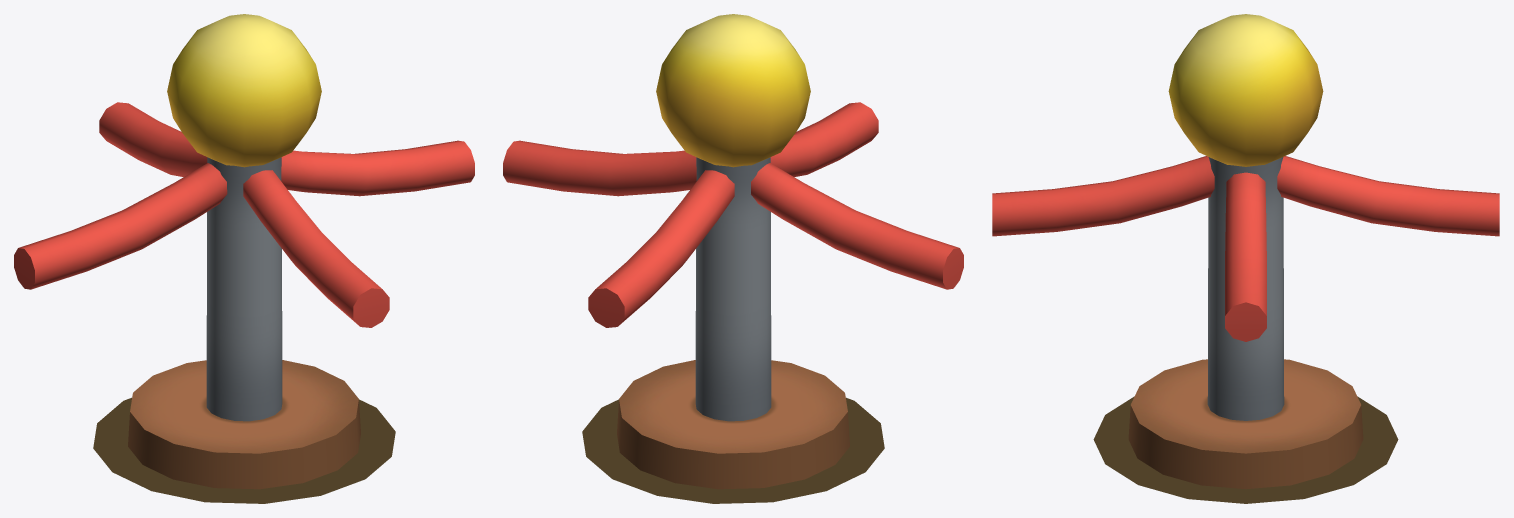
The model's file is Mu_Fence01.fbx.
3 renders of one model, left to right at view 1: azimuth 30°, elevation 25°; view 2: azimuth 150°, elevation 25°; view 3: azimuth 270°, elevation 25°, orthographic.
Visible parts, largest first — view 1: Mu_Fence01_h, Mu_Fence01_a, Mu_Fence01_b, Mu_Fence01_a_shadow, Mu_Fence01_h_shadow, Mu_Fence01_c, Mu_Fence01_c_shadow, Mu_Fence01_b_shadow, Mu_Fence01_d; view 2: Mu_Fence01_h, Mu_Fence01_a, Mu_Fence01_h_shadow, Mu_Fence01_b, Mu_Fence01_a_shadow, Mu_Fence01_c, Mu_Fence01_b_shadow, Mu_Fence01_d; view 3: Mu_Fence01_h, Mu_Fence01_b, Mu_Fence01_a, Mu_Fence01_h_shadow, Mu_Fence01_a_shadow, Mu_Fence01_d, Mu_Fence01_b_shadow.
Part boxes in pixels (<box>): Mu_Fence01_h: <box>14,14,474,489</box>; Mu_Fence01_a: <box>135,24,360,429</box>; Mu_Fence01_b: <box>266,141,474,413</box>; Mu_Fence01_a_shadow: <box>93,399,395,503</box>; Mu_Fence01_h_shadow: <box>97,398,394,503</box>; Mu_Fence01_c: <box>14,174,226,289</box>; Mu_Fence01_c_shadow: <box>237,483,318,503</box>; Mu_Fence01_b_shadow: <box>105,398,364,496</box>; Mu_Fence01_d: <box>99,121,194,176</box>; Mu_Fence01_h: <box>503,14,963,489</box>; Mu_Fence01_a: <box>617,19,847,489</box>; Mu_Fence01_h_shadow: <box>583,398,884,503</box>; Mu_Fence01_b: <box>503,120,874,419</box>; Mu_Fence01_a_shadow: <box>582,397,884,502</box>; Mu_Fence01_c: <box>751,180,957,286</box>; Mu_Fence01_b_shadow: <box>585,416,883,499</box>; Mu_Fence01_d: <box>588,185,734,323</box>; Mu_Fence01_h: <box>992,14,1499,489</box>; Mu_Fence01_b: <box>992,167,1348,416</box>; Mu_Fence01_a: <box>1133,20,1351,470</box>; Mu_Fence01_h_shadow: <box>1093,396,1395,503</box>; Mu_Fence01_a_shadow: <box>1097,398,1398,496</box>; Mu_Fence01_d: <box>1229,183,1499,418</box>; Mu_Fence01_b_shadow: <box>1094,433,1392,502</box>.
Bounding box in the file's own units: 101 × 92 × 101.
